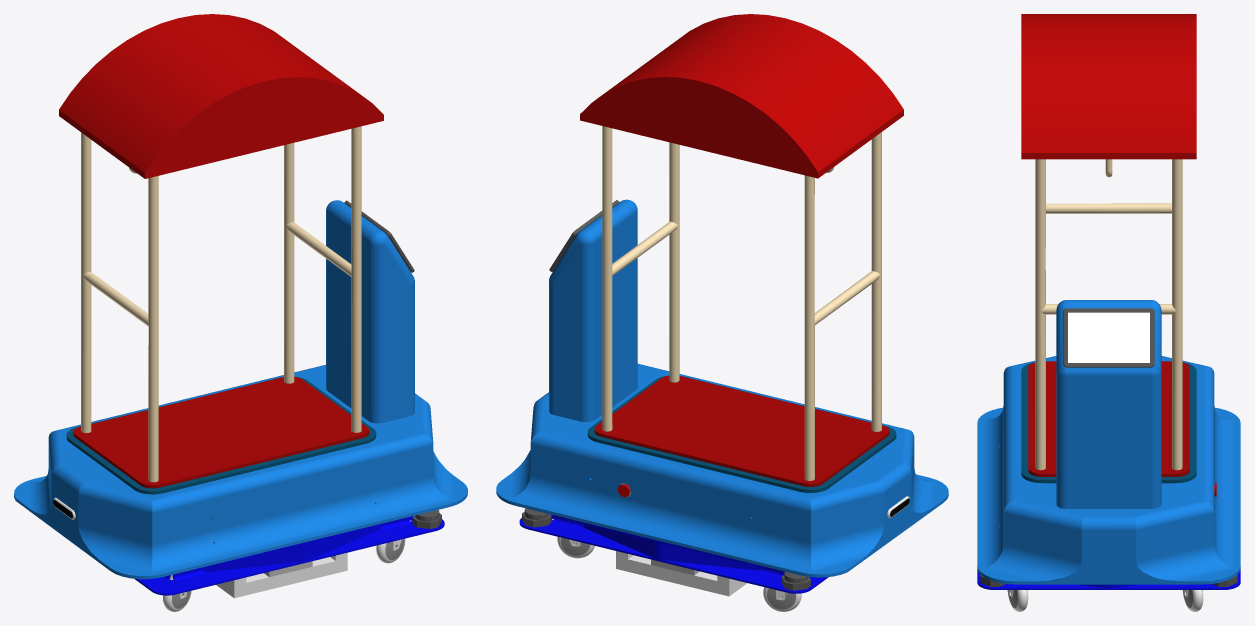
Rendered from amir-robohotel.glb.
3 renders of one model, left to right at view 1: azimuth 30°, elevation 25°; view 2: azimuth 150°, elevation 25°; view 3: azimuth 270°, elevation 25°, orthographic.
Parts seen in each view (by area): view 1: hotel_carriage-1, Professional Cover - 1-1, tablet_bracket-1, Structure-1, Lidar Side ASSY-2/Lidar Side-1, Fixtures and Brackets-1/Lidar Bracket-2, Lidar Side ASSY-2/Lidar Side - L-1, Lidar Side ASSY-2/Lidar Side - R-1, Fixtures and Brackets-1/Lidar Bracket-4; view 2: hotel_carriage-1, Professional Cover - 1-1, tablet_bracket-1, Structure-1, Lidar Side ASSY-1/Lidar Side-1, Lidar Side ASSY-1/Lidar Side - R-1, Lidar Side ASSY-1/Lidar Side - L-1, Fixtures and Brackets-1/Lidar Bracket-3, Fixtures and Brackets-1/Lidar Bracket-1, Castor Assembly-4/Castor Wheel-1; view 3: hotel_carriage-1, Professional Cover - 1-1, tablet_bracket-1, Tablet-1, Front Bumber-1/Lidar Front1-1, Fixtures and Brackets-1/Lidar Bracket-4, Fixtures and Brackets-1/Lidar Bracket-1.
Boxes of the visible parts, x1=… form: hotel_carriage-1: x1=59, y1=14, x2=383, y2=494; Professional Cover - 1-1: x1=14, y1=365, x2=467, y2=579; tablet_bracket-1: x1=326, y1=200, x2=414, y2=423; Structure-1: x1=216, y1=552, x2=347, y2=598; Lidar Side ASSY-2/Lidar Side-1: x1=264, y1=533, x2=341, y2=571; Fixtures and Brackets-1/Lidar Bracket-2: x1=134, y1=567, x2=217, y2=595; Lidar Side ASSY-2/Lidar Side - L-1: x1=203, y1=551, x2=269, y2=584; Lidar Side ASSY-2/Lidar Side - R-1: x1=336, y1=520, x2=393, y2=553; Fixtures and Brackets-1/Lidar Bracket-4: x1=380, y1=516, x2=444, y2=541; hotel_carriage-1: x1=580, y1=14, x2=903, y2=492; Professional Cover - 1-1: x1=496, y1=363, x2=948, y2=577; tablet_bracket-1: x1=549, y1=199, x2=637, y2=422; Structure-1: x1=616, y1=551, x2=746, y2=596; Lidar Side ASSY-1/Lidar Side-1: x1=622, y1=532, x2=698, y2=569; Lidar Side ASSY-1/Lidar Side - R-1: x1=693, y1=549, x2=759, y2=582; Lidar Side ASSY-1/Lidar Side - L-1: x1=569, y1=519, x2=627, y2=552; Fixtures and Brackets-1/Lidar Bracket-3: x1=746, y1=565, x2=828, y2=593; Fixtures and Brackets-1/Lidar Bracket-1: x1=519, y1=514, x2=583, y2=539; Castor Assembly-4/Castor Wheel-1: x1=763, y1=587, x2=801, y2=611; hotel_carriage-1: x1=1021, y1=14, x2=1196, y2=483; Professional Cover - 1-1: x1=977, y1=356, x2=1240, y2=584; tablet_bracket-1: x1=1056, y1=300, x2=1161, y2=508; Tablet-1: x1=1063, y1=308, x2=1154, y2=367; Front Bumber-1/Lidar Front1-1: x1=1067, y1=584, x2=1150, y2=589; Fixtures and Brackets-1/Lidar Bracket-4: x1=977, y1=569, x2=1043, y2=589; Fixtures and Brackets-1/Lidar Bracket-1: x1=1174, y1=569, x2=1240, y2=589.
Size of the model in its own units: 1.19 by 1.63 by 0.752.
